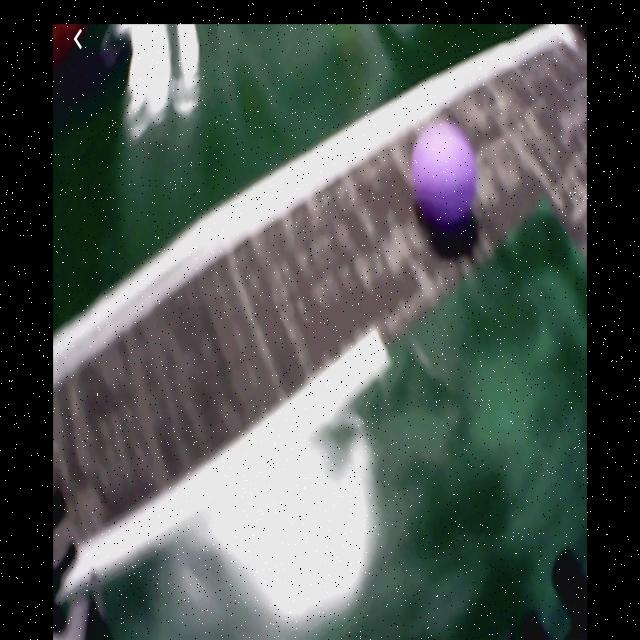ball: (409, 125, 476, 228)
